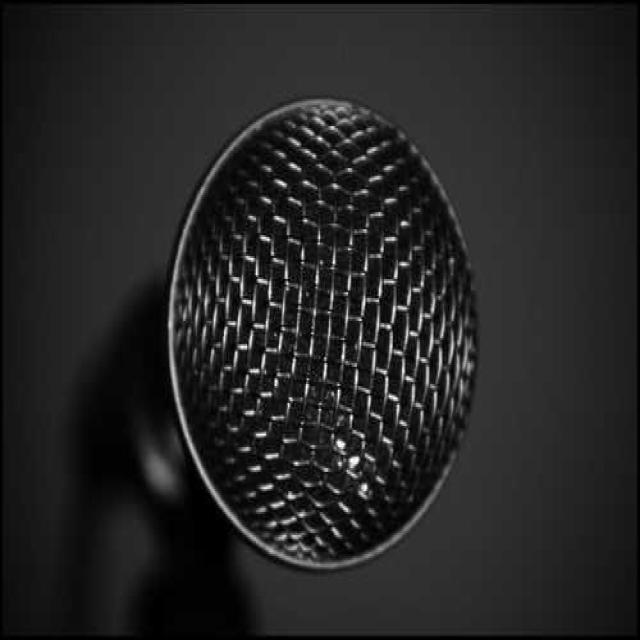microphone: (170, 106, 474, 561)
